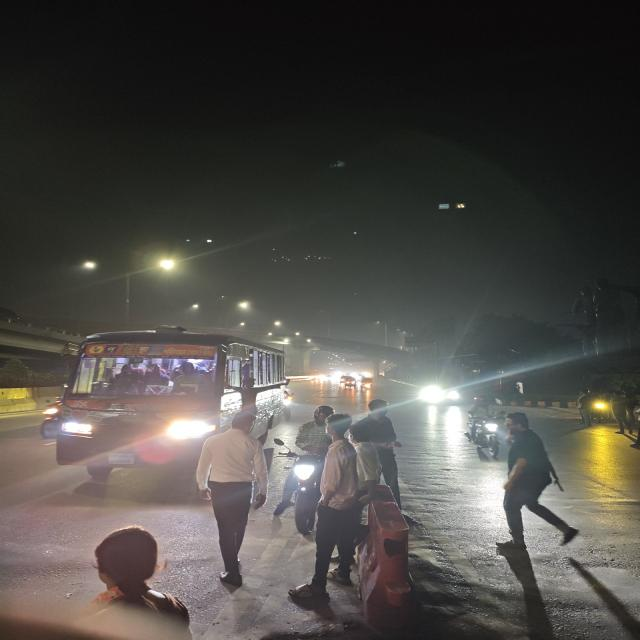bus: (46, 326, 289, 457)
cng: (360, 375, 375, 393), (343, 378, 356, 390)
motorcycle: (466, 410, 504, 454)
pedestrian: (303, 405, 391, 598), (191, 412, 271, 587), (483, 415, 578, 551)
